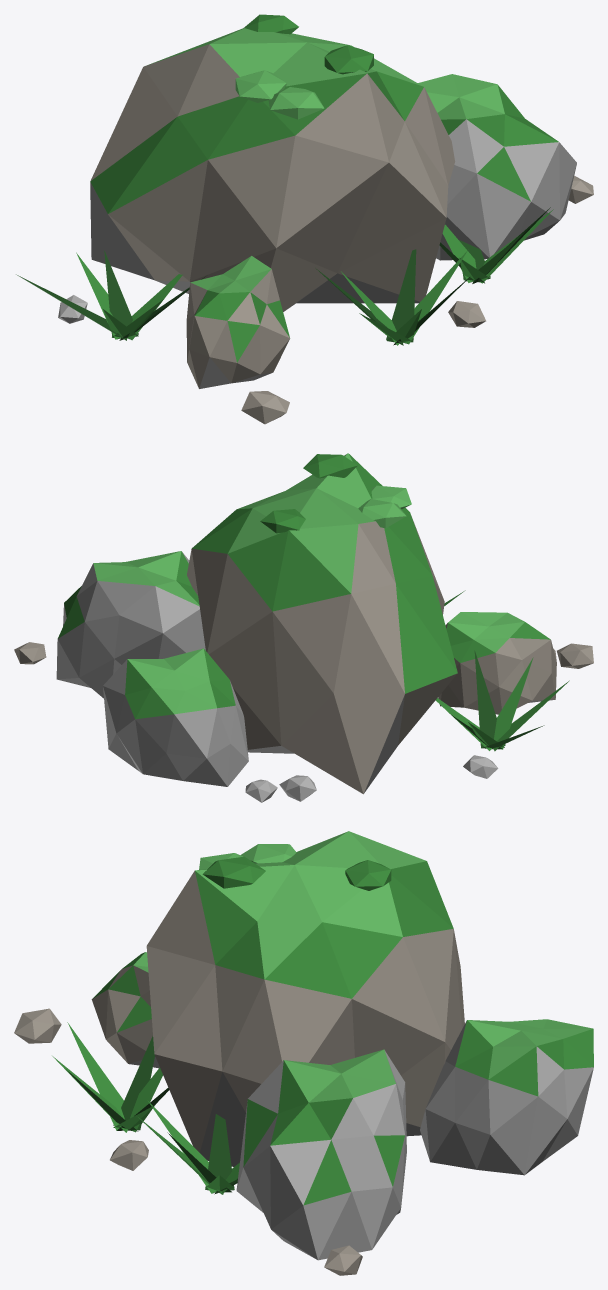
3 views of the same model, one above another, from view 1: azimuth 30°, elevation 25°; view 2: azimuth 150°, elevation 25°; view 3: azimuth 270°, elevation 25° (orthographic). The views are drawn at different scales.
Visible parts, largest first — view 1: boulders-stone, moss-bamboo-green, moss-bamboo-green-light, boulders-mist-grey, boulders-mist-grey-dark, ferns-bamboo-green, ferns-bamboo-green-dark, pebbles-stone; view 2: boulders-stone, moss-bamboo-green, boulders-mist-grey, moss-bamboo-green-light, boulders-mist-grey-dark, ferns-bamboo-green, pebbles-mist-grey, pebbles-stone, ferns-bamboo-green-dark; view 3: boulders-stone, boulders-mist-grey, moss-bamboo-green, moss-bamboo-green-light, boulders-mist-grey-dark, ferns-bamboo-green, ferns-bamboo-green-dark, pebbles-stone.
Part boxes in pixels (x1,y1,x2,y2): boulders-stone: (90,44,455,388); moss-bamboo-green: (90,14,558,362); moss-bamboo-green-light: (147,28,504,293); boulders-mist-grey: (436,119,576,259); boulders-mist-grey-dark: (90,182,558,388); ferns-bamboo-green: (76,209,553,345); ferns-bamboo-green-dark: (16,207,550,345); pebbles-stone: (241,176,593,424); boulders-stone: (187,516,556,794); moss-bamboo-green: (57,454,550,719); boulders-mist-grey: (56,552,248,786); moss-bamboo-green-light: (93,453,524,714); boulders-mist-grey-dark: (57,678,552,793); ferns-bamboo-green: (435,590,569,751); pebbles-mist-grey: (245,755,498,802); pebbles-stone: (14,642,593,668); ferns-bamboo-green-dark: (451,650,544,749); boulders-stone: (91,870,464,1152); boulders-mist-grey: (236,1020,593,1259); moss-bamboo-green: (92,856,593,1205); moss-bamboo-green-light: (133,831,592,1102); boulders-mist-grey-dark: (129,1057,566,1260); ferns-bamboo-green: (52,1022,239,1194); ferns-bamboo-green-dark: (66,1036,237,1194); pebbles-stone: (14,1008,362,1275).
Size of the model in its own units: 2.48 by 1.03 by 2.04.
